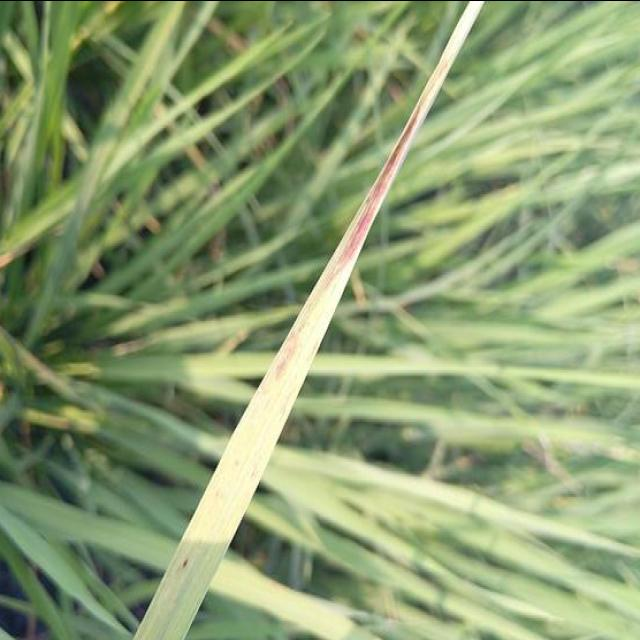Leaf Blight: (182, 0, 484, 562)
